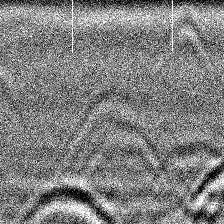Utility: (61, 91, 162, 178), (13, 179, 117, 224), (157, 6, 223, 73), (184, 156, 224, 224)
